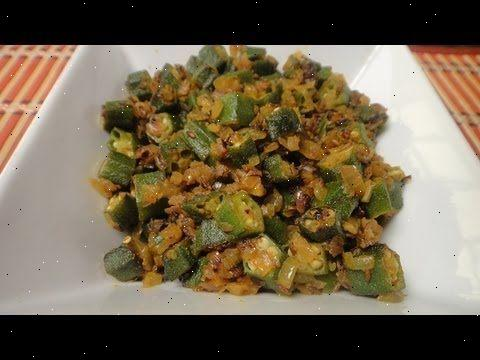bhindi: (128, 71, 381, 294)
